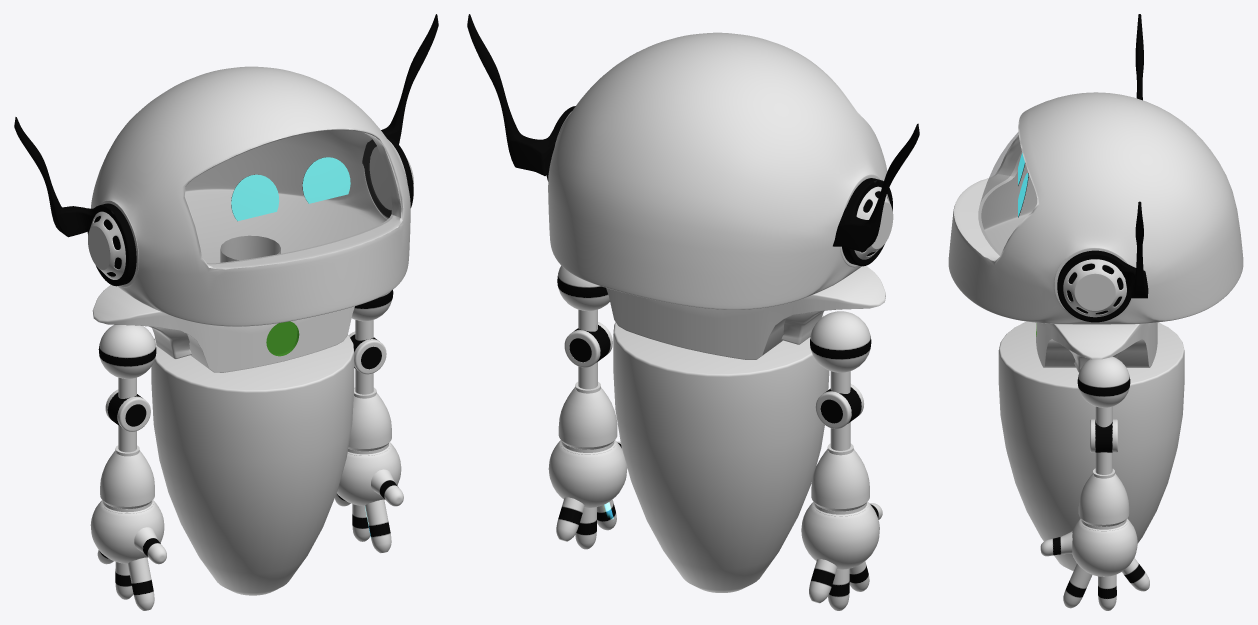
File: Robot T2L.glb
3 views of the same model, side by side, from view 1: azimuth 30°, elevation 25°; view 2: azimuth 150°, elevation 25°; view 3: azimuth 270°, elevation 25° (orthographic). The views are drawn at different scales.
Visible parts, largest first — view 1: Robot T1; view 2: Robot T1; view 3: Robot T1.
Boxes of the visible parts, box(x1,y1,x2,y2) form: Robot T1: box(14, 14, 438, 610); Robot T1: box(467, 14, 919, 610); Robot T1: box(948, 14, 1243, 610).
Bounding box in the file's own units: 116 × 133 × 76.69.
Materials: 2 (1 with a texture image).
